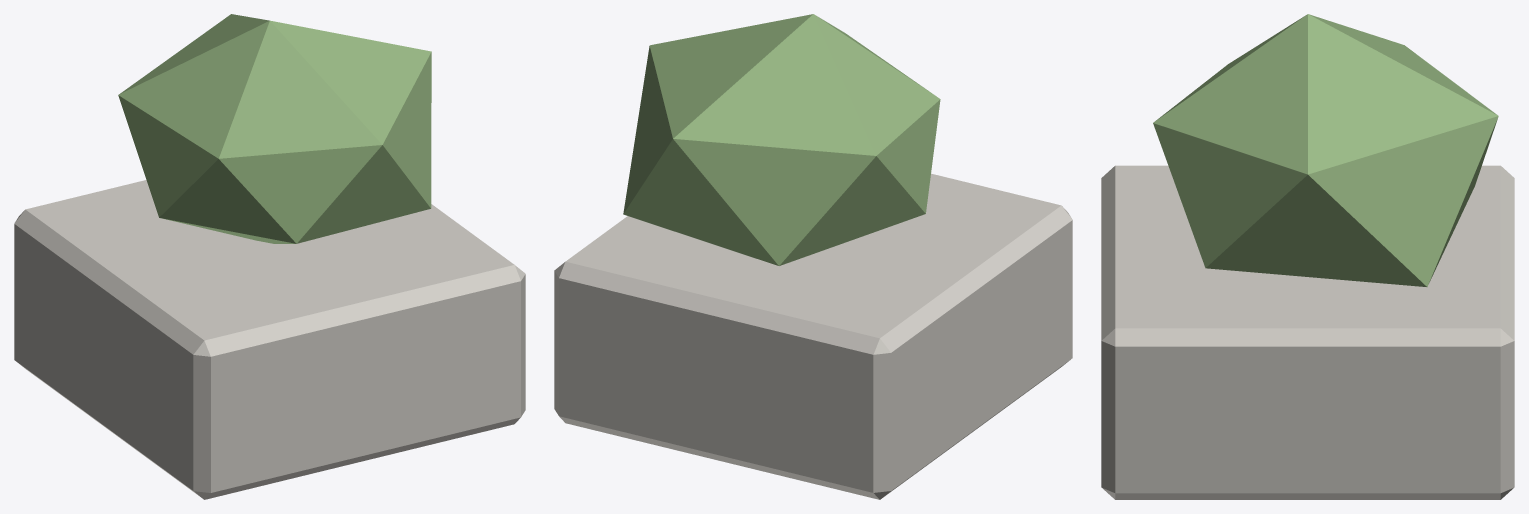
Rendered from planter.glb.
The picture shows the model from 3 angles, left to right: view 1: azimuth 30°, elevation 25°; view 2: azimuth 150°, elevation 25°; view 3: azimuth 270°, elevation 25°; orthographic projection. The views are drawn at different scales.
Visible parts, largest first — view 1: planter; view 2: planter; view 3: planter.
Boxes of the visible parts, box(x1,y1,x2,y2) form: planter: box(14, 14, 525, 499); planter: box(554, 14, 1072, 499); planter: box(1101, 14, 1514, 499).
Bounding box in the file's own units: 1.2 × 1.3 × 1.2.
